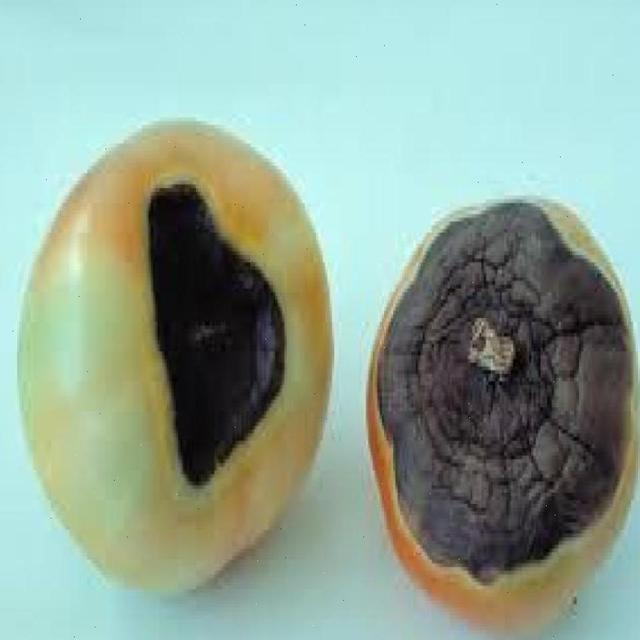Blossom End Rot Fruit: (96, 211, 338, 260)
